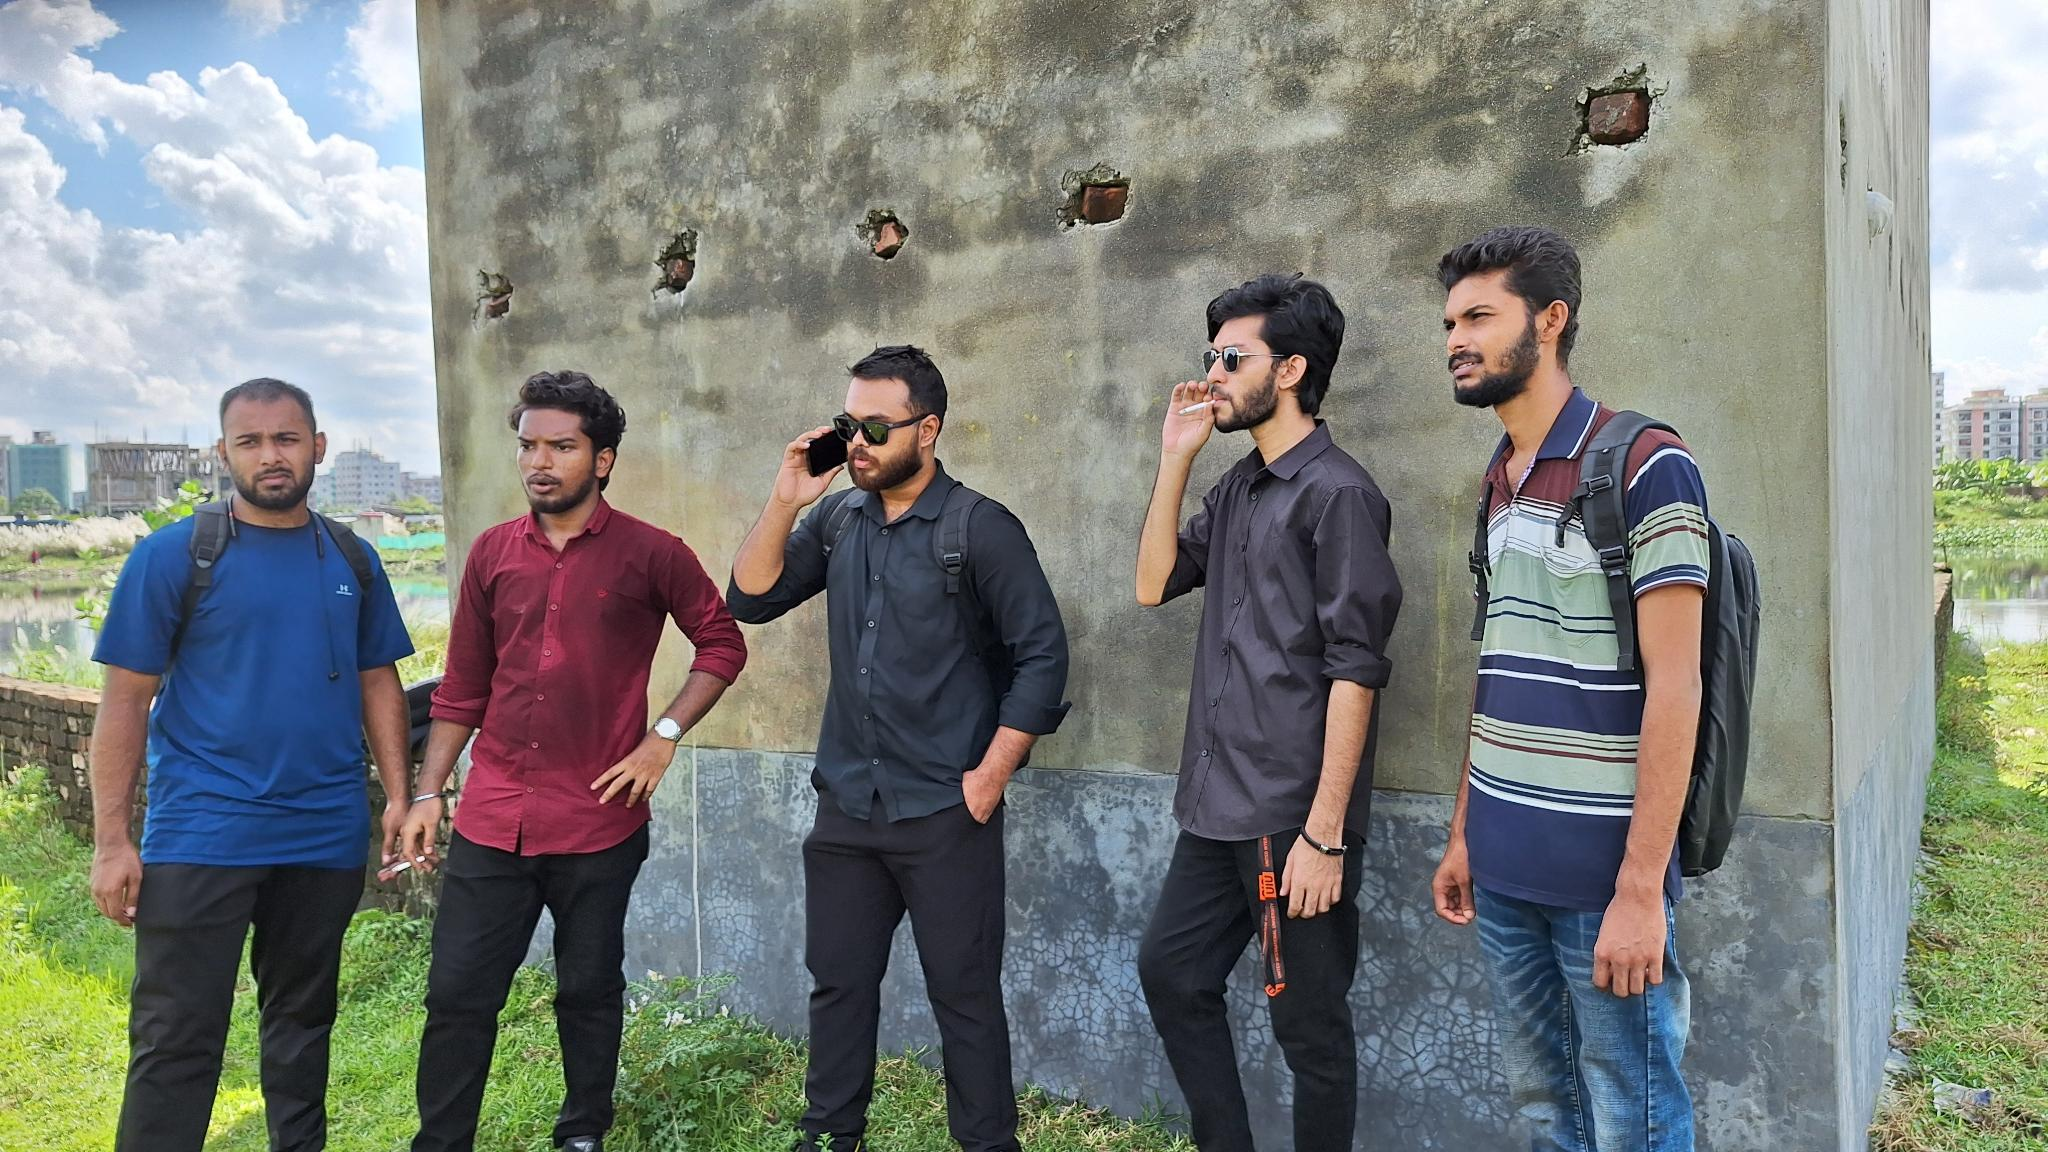cigarette: (1176, 398, 1218, 418), (390, 854, 428, 875)
nonSmoker: (1438, 225, 1762, 1152), (724, 343, 1068, 1152), (89, 377, 415, 1152)
smoker: (398, 370, 745, 1152), (1135, 276, 1405, 1152)
